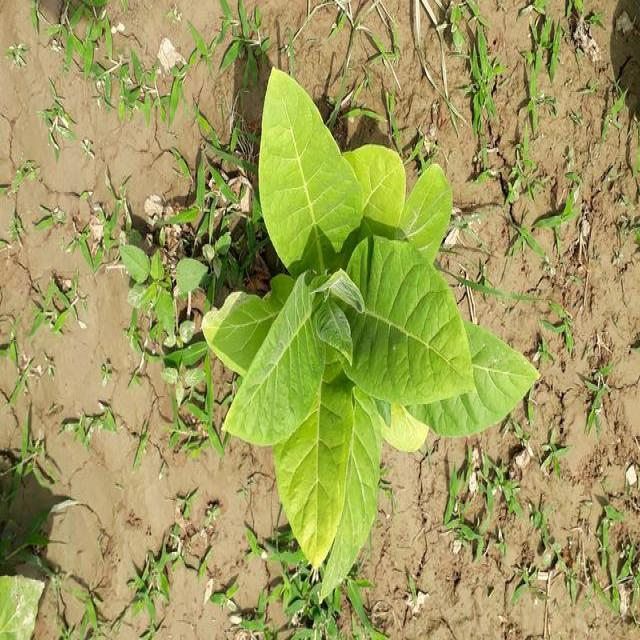crop: (199, 62, 538, 590)
